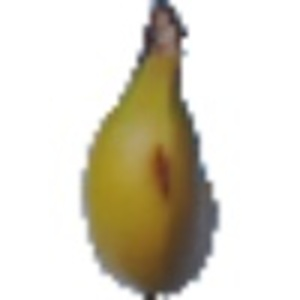banana: (81, 5, 220, 293)
